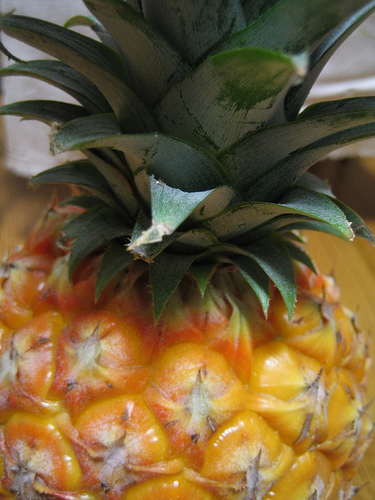pineapple: (2, 0, 373, 498)
